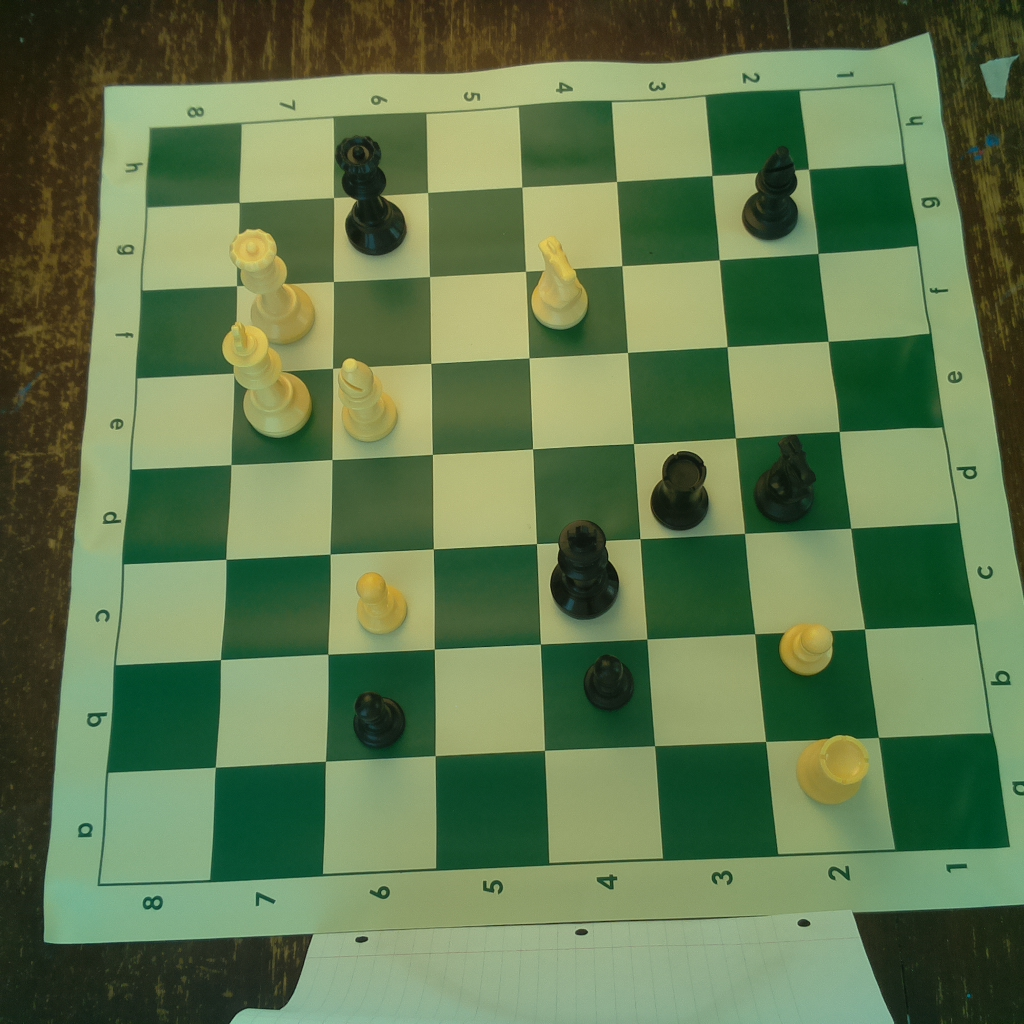black_bishop: (740, 140, 802, 240)
black_king: (546, 514, 624, 622)
black_knight: (747, 430, 821, 522)
black_pawn: (345, 690, 412, 753), (579, 648, 641, 714)
black_queen: (333, 131, 410, 258)
black_rook: (641, 444, 718, 532)
file_a: (97, 732, 1010, 887)
file_b: (106, 622, 997, 775)
file_c: (116, 523, 976, 667)
file_d: (123, 427, 958, 564)
file_e: (133, 334, 944, 469)
file_f: (137, 245, 931, 377)
file_g: (140, 165, 921, 291)
file_h: (146, 83, 908, 208)
outline: (96, 83, 1011, 884)
rank_1: (798, 82, 1010, 854)
rank_2: (706, 91, 896, 852)
rank_3: (612, 96, 780, 858)
rank_4: (518, 99, 667, 865)
rank_5: (424, 106, 551, 873)
rank_6: (321, 115, 436, 873)
rank_7: (208, 117, 334, 882)
rank_8: (99, 123, 245, 883)
white_bishop: (333, 352, 402, 440)
white_king: (215, 318, 316, 440)
white_knight: (524, 230, 592, 331)
white_pawn: (349, 565, 411, 640), (776, 613, 845, 679)
white_queen: (228, 226, 323, 343)
white_rook: (790, 730, 876, 806)
